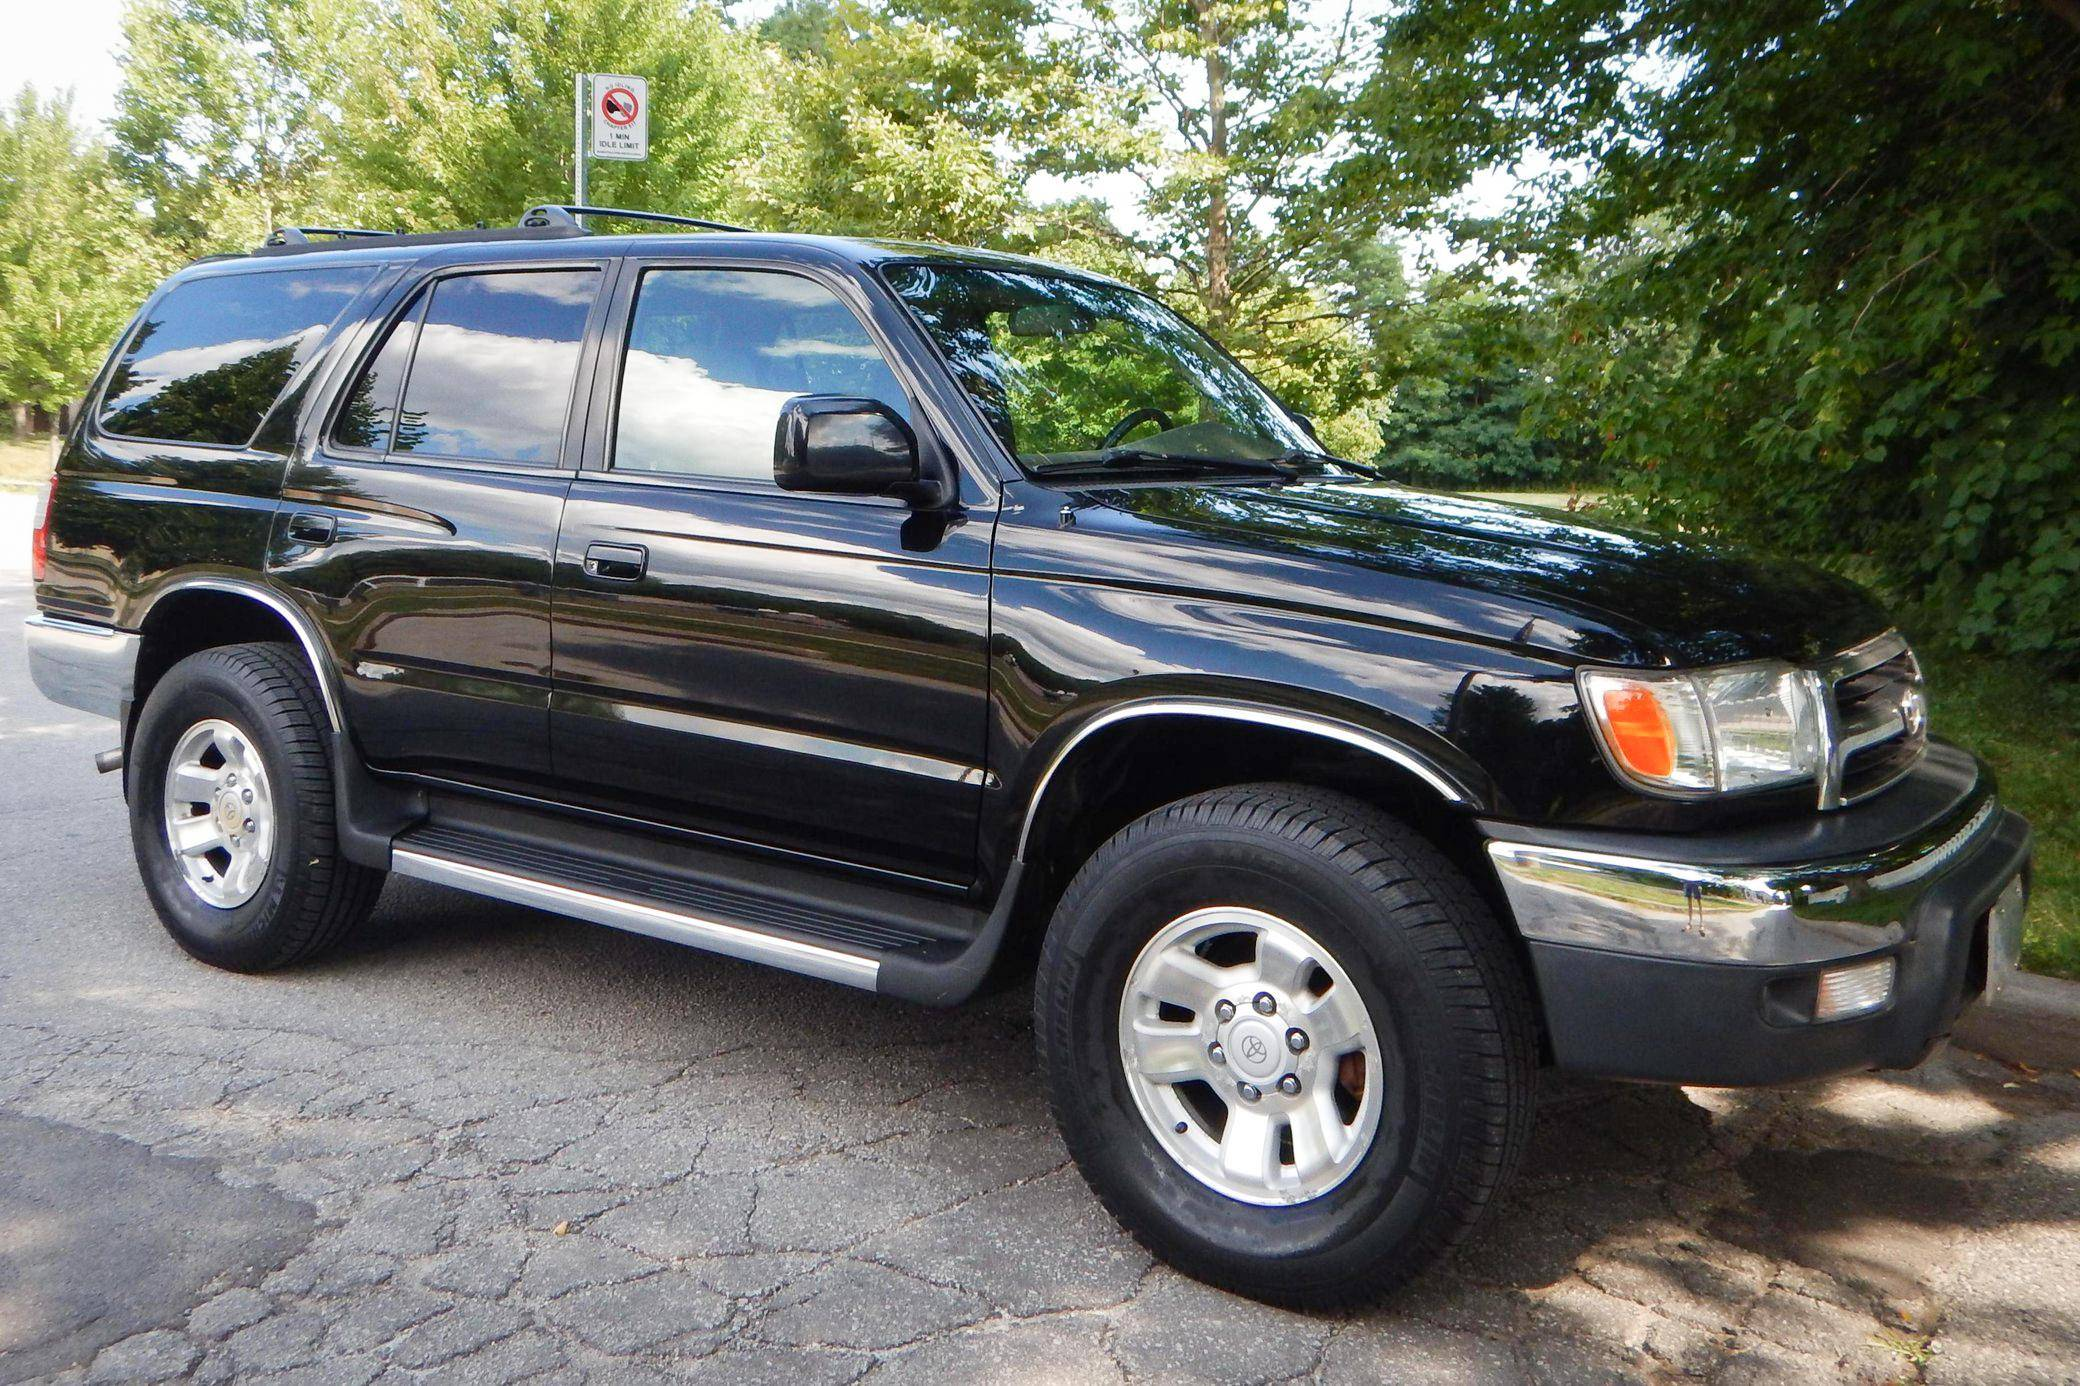car: (14, 193, 2041, 1316)
